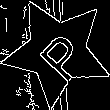P_NW: (26, 21, 88, 82)
